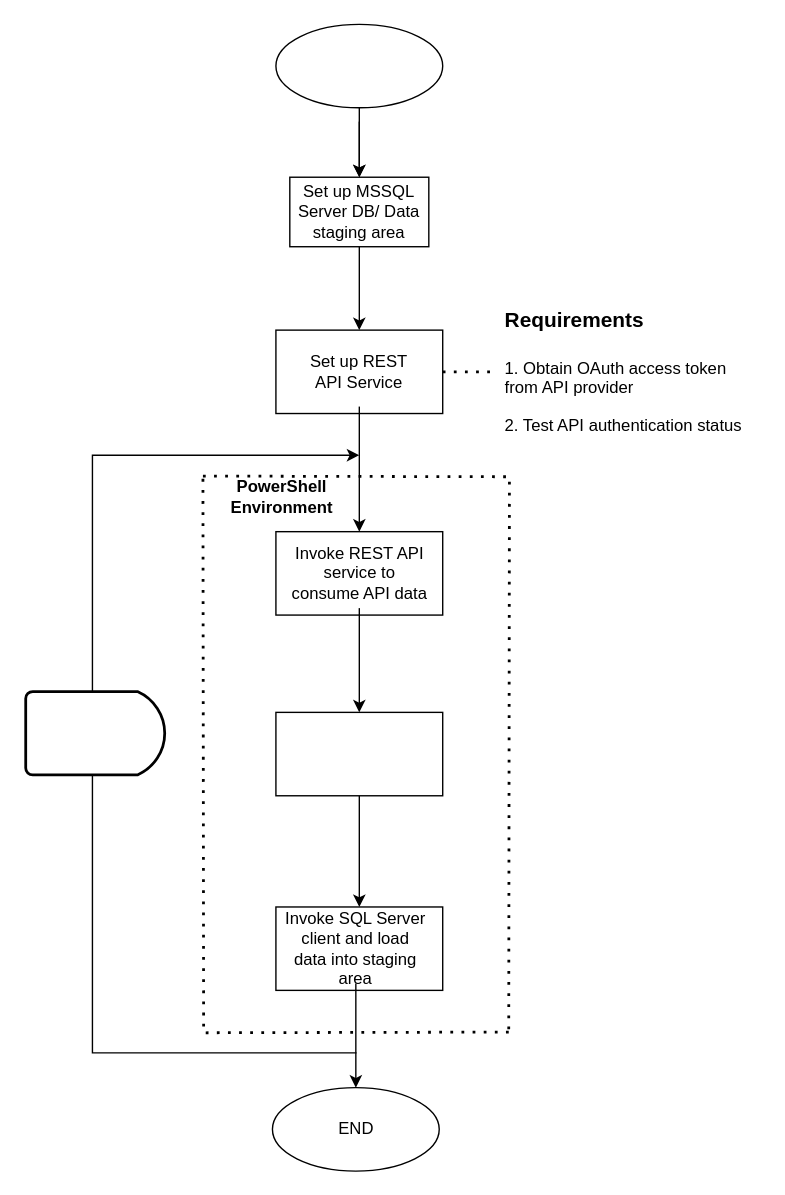
The diagram is 785 pixels wide and 1195 high, and some of its shapes have lost their labels. The centre of each missing label's shape, as x and y in pixels:
Data shaping/filtering: pixel 359 753
START: pixel 359 65
Task scheduled daily: pixel 94 732
